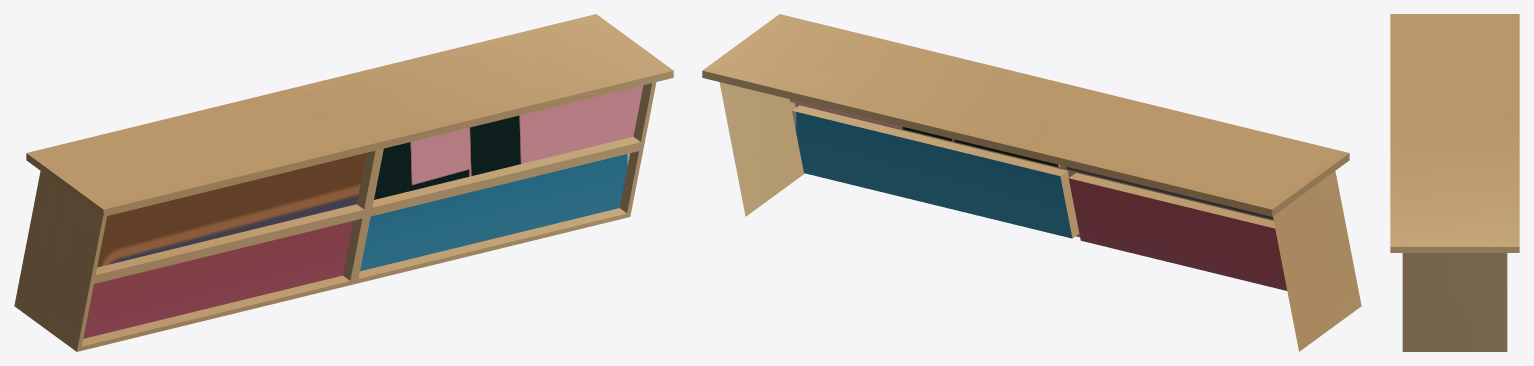
File: Barra.fbx
The picture shows the model from 3 angles, left to right: view 1: azimuth 30°, elevation 25°; view 2: azimuth 150°, elevation 25°; view 3: azimuth 270°, elevation 25°; orthographic projection. The views are drawn at different scales.
Parts seen in each view (by area): view 1: Box006; view 2: Box006; view 3: Box006.
Part boxes in pixels (x1,y1,x2,y2): Box006: [14, 14, 673, 351]; Box006: [702, 14, 1361, 351]; Box006: [1390, 14, 1519, 351].
Bounding box in the file's own units: 318 × 73.62 × 72.2.
